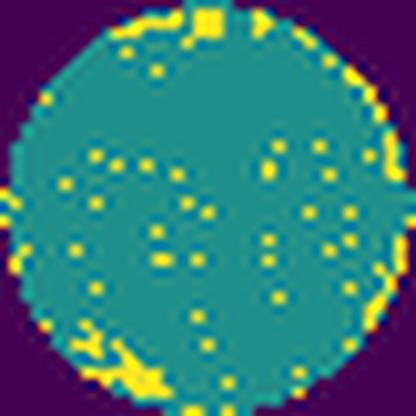Edge-Loc: (346, 66, 412, 184), (79, 339, 177, 406), (108, 4, 229, 52), (358, 231, 413, 331)
